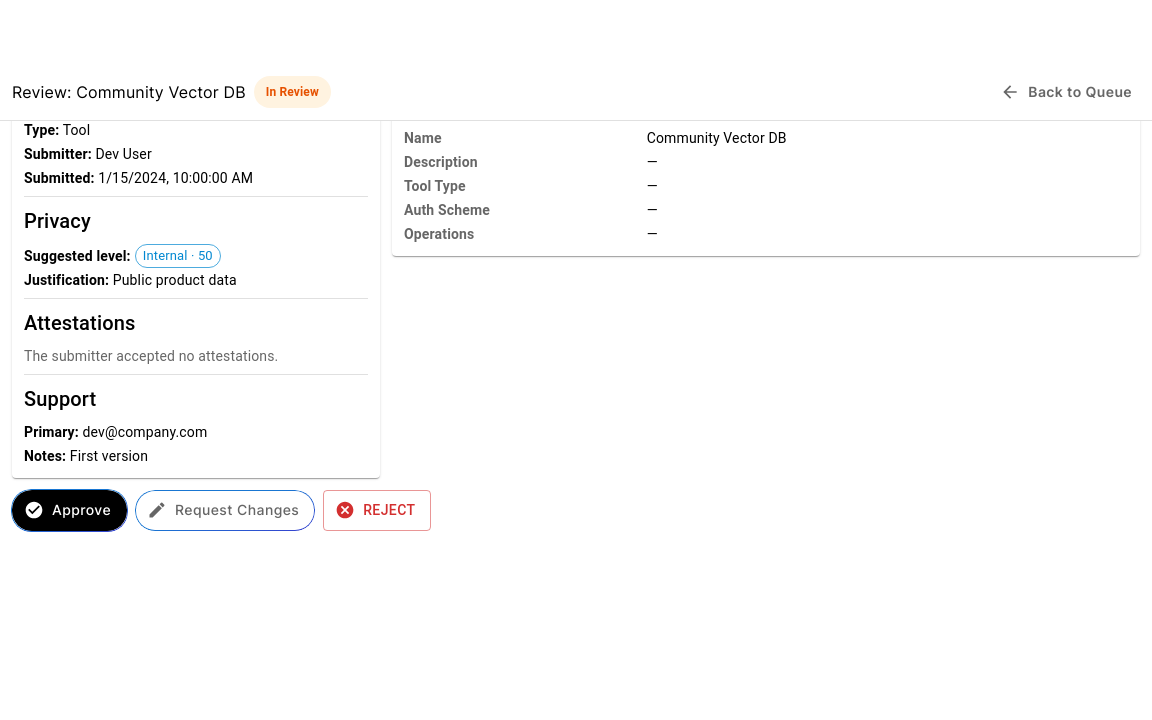
SubmissionReview › warns in the Approve dialog when the final score is above every active provider
Click the button "Approve": x=70, y=510 top-left (12, 490), bottom-right (127, 531)
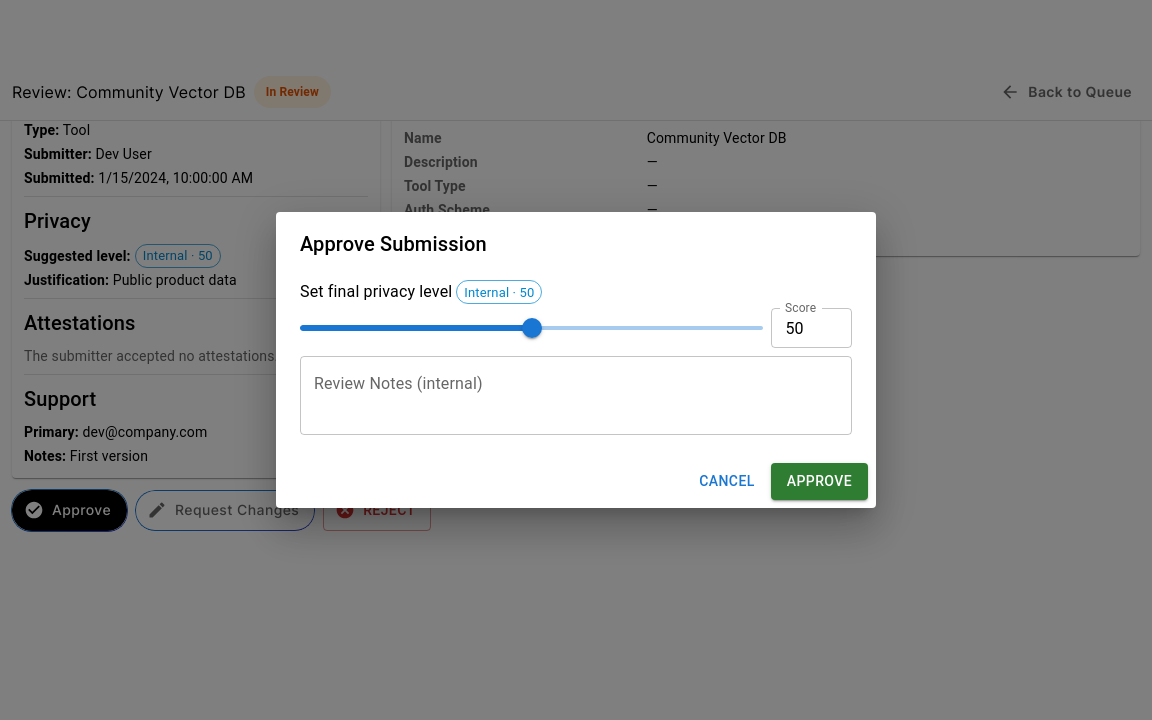
Replace the text in the number field named "Final privacy level" with "80": x=812, y=328 top-left (771, 308), bottom-right (852, 348)
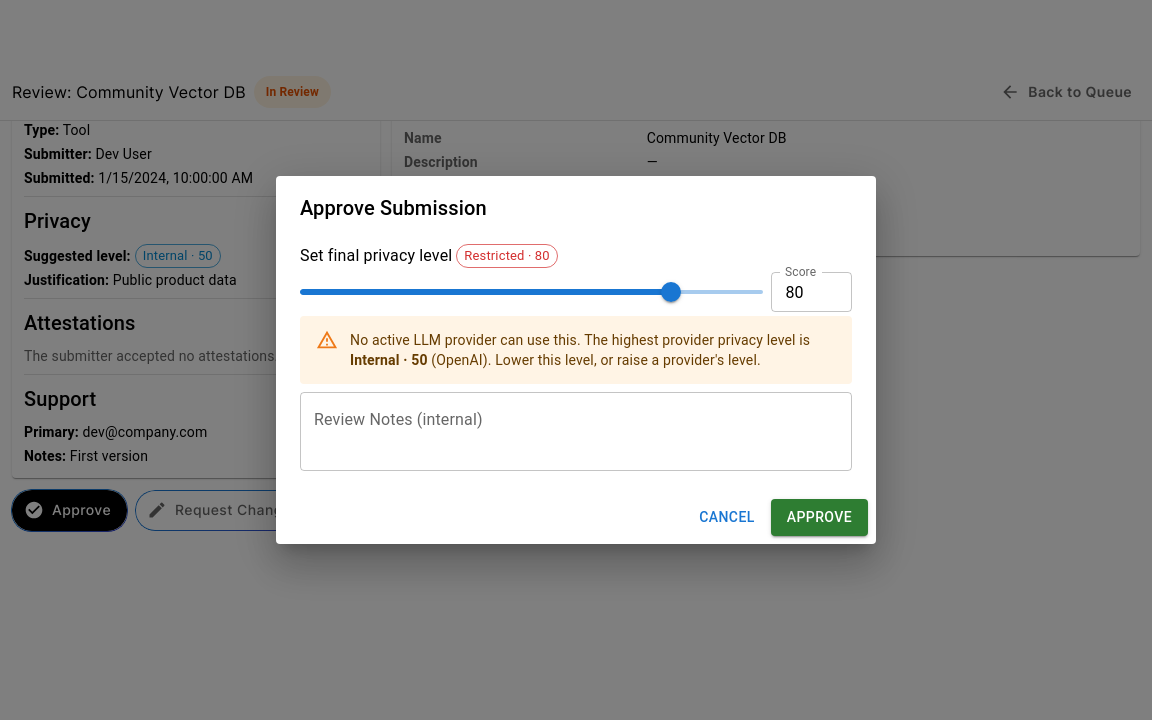
Check: the message with test id "provider-privacy-warning" shows "Internal · 50 (OpenAI)", box top-left (300, 316), bottom-right (852, 384)
Replace the text in the number field named "Final privacy level" with "40": x=812, y=292 top-left (771, 272), bottom-right (852, 312)
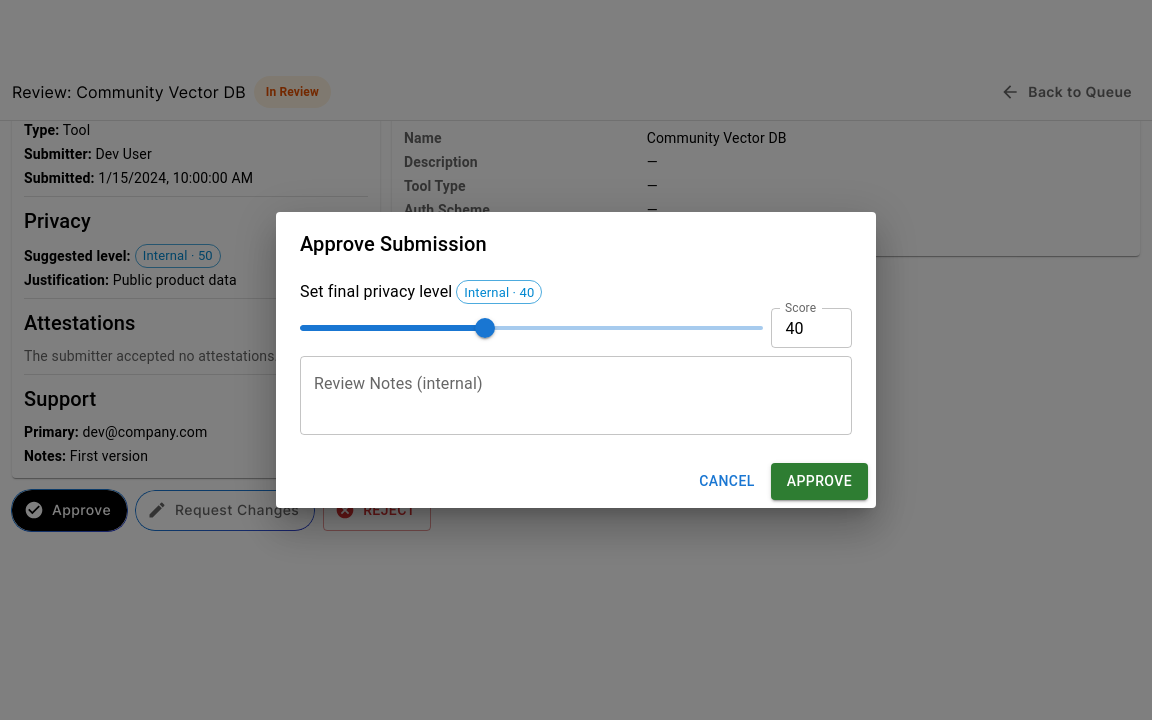
Check: the message with test id "provider-privacy-warning" is gone
